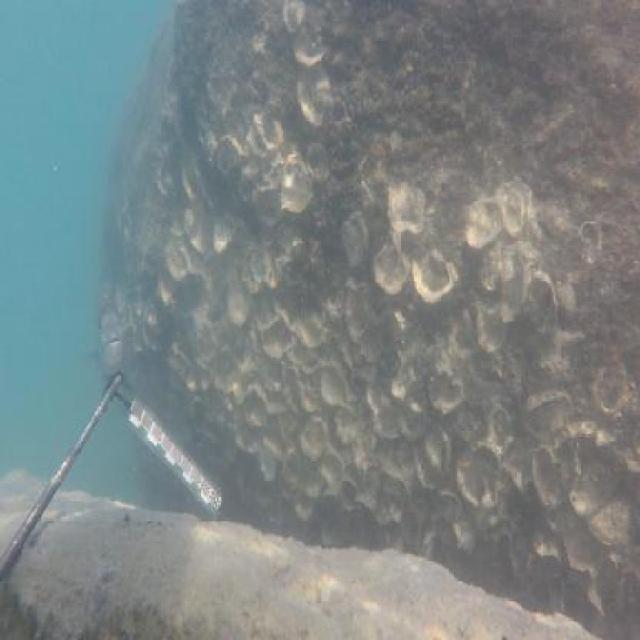acanthopagrus_palmaris: (95, 274, 127, 381)
